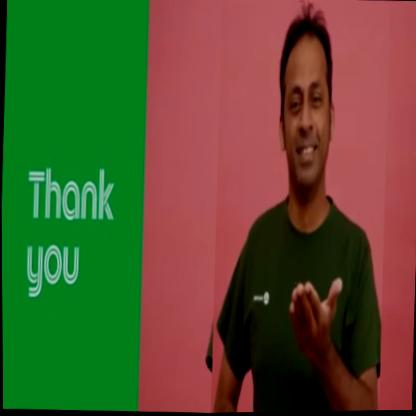ThankYou: (207, 0, 392, 414)
